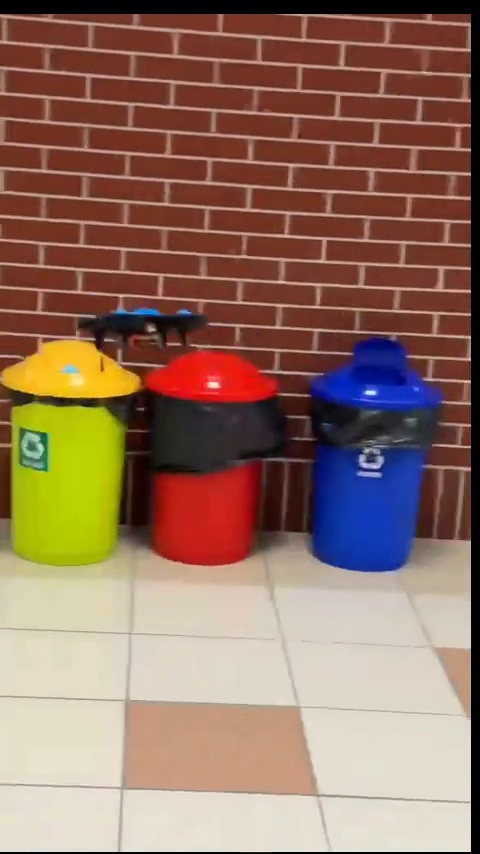drone: (80, 305, 205, 346)
